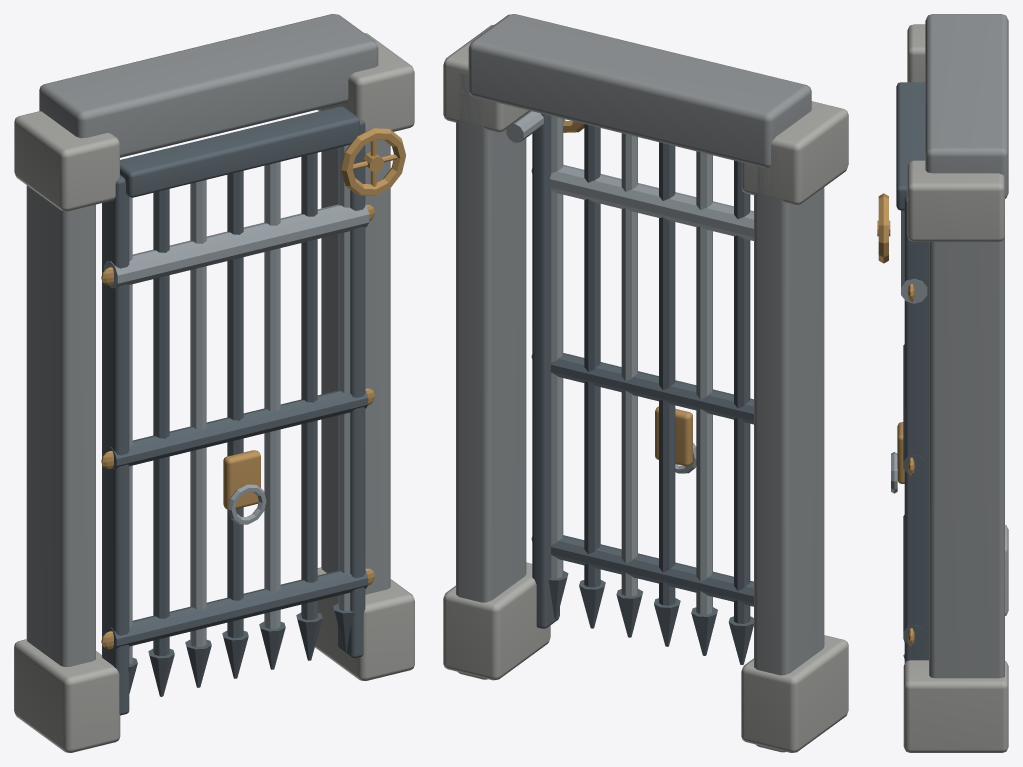
File: portao_levadico_baixado.glb
The picture shows the model from 3 angles, left to right: view 1: azimuth 30°, elevation 25°; view 2: azimuth 150°, elevation 25°; view 3: azimuth 270°, elevation 25°; orthographic projection. The views are drawn at different scales.
Visible parts, largest first — view 1: Pilar de pedra 1, Viga superior de pedra, Pilar de pedra 2, Guia de ferro 1, Viga de ferro do mecanismo, Base lavrada 1, Guia de ferro 2, Capitel 1, Grade abaixada | travessa 3, Grade abaixada | barra vertical 6, Grade abaixada | barra vertical 2, Grade abaixada | barra vertical 3 (+16 smaller); view 2: Pilar de pedra 1, Pilar de pedra 2, Viga superior de pedra, Guia de ferro 2, Base lavrada 1, Base lavrada 2, Grade abaixada | barra vertical 5, Grade abaixada | barra vertical 3, Grade abaixada | barra vertical 6, Grade abaixada | barra vertical 4, Capitel 1, Grade abaixada | barra vertical 2 (+12 smaller); view 3: Pilar de pedra 2, Viga superior de pedra, Guia de ferro 2, Base lavrada 2, Capitel 2, Viga de ferro do mecanismo, Capitel 1, Grade abaixada | travessa 3, Engrenagem | aro, Grade abaixada | travessa 2, Grade abaixada | travessa 1, Grade abaixada | placa central (+2 smaller).
Part boxes in pixels (x1,y1,x2,y2): Pilar de pedra 1: (26,185,95,666); Viga superior de pedra: (39,14,378,157); Pilar de pedra 2: (321,140,390,594); Guia de ferro 1: (102,175,129,715); Viga de ferro do mecanismo: (120,106,359,197); Base lavrada 1: (14,639,120,752); Guia de ferro 2: (337,120,365,658); Capitel 1: (14,111,119,211); Grade abaixada | travessa 3: (104,204,369,288); Grade abaixada | barra vertical 6: (301,152,317,619); Grade abaixada | barra vertical 2: (153,189,169,656); Grade abaixada | barra vertical 3: (190,180,206,647); Pilar de pedra 1: (754,149,824,752); Pilar de pedra 2: (456,73,526,679); Viga superior de pedra: (468,14,811,167); Guia de ferro 2: (532,113,559,628); Base lavrada 1: (741,635,848,752); Base lavrada 2: (443,562,550,680); Grade abaixada | barra vertical 5: (621,133,637,596); Grade abaixada | barra vertical 3: (696,151,712,614); Grade abaixada | barra vertical 6: (584,124,600,587); Grade abaixada | barra vertical 4: (659,142,675,605); Capitel 1: (741,101,848,205); Grade abaixada | barra vertical 2: (734,160,750,623); Pilar de pedra 2: (929,236,1004,678); Viga superior de pedra: (925,14,1008,198); Guia de ferro 2: (904,196,928,663); Base lavrada 2: (903,660,1008,752); Capitel 2: (907,160,1004,241); Viga de ferro do mecanismo: (896,82,925,210); Capitel 1: (907,24,925,82); Grade abaixada | travessa 3: (901,210,927,303); Engrenagem | aro: (878,193,888,263); Grade abaixada | travessa 2: (903,344,925,475); Grade abaixada | travessa 1: (903,515,925,646); Grade abaixada | placa central: (897,422,904,483).
Bounding box in the file's own units: 1.07 × 1.82 × 0.363.
